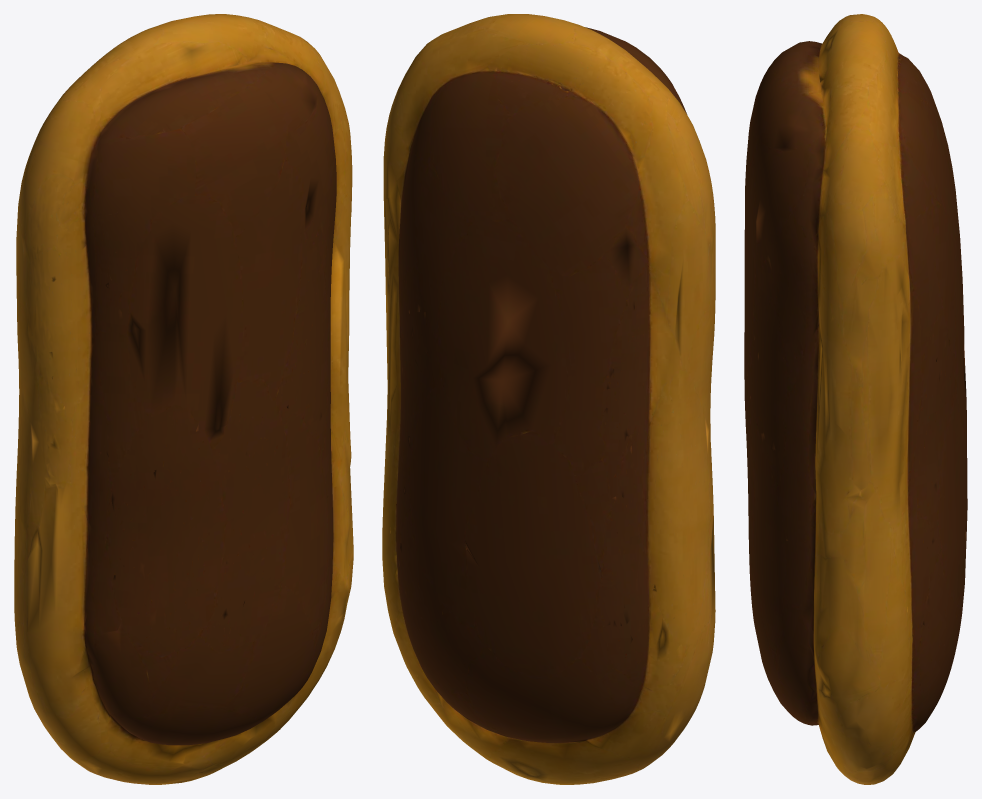
File: bk-pastry-eclair.glb
3 views of the same model, side by side, from view 1: azimuth 30°, elevation 25°; view 2: azimuth 150°, elevation 25°; view 3: azimuth 270°, elevation 25° (orthographic). The views are drawn at different scales.
Parts seen in each view (by area): view 1: node_0; view 2: node_0; view 3: node_0.
Boxes of the visible parts, box(x1,y1,x2,y2) form: node_0: box(14, 14, 353, 784); node_0: box(382, 14, 715, 784); node_0: box(744, 14, 967, 784).
Size of the model in its own units: 0.5325 by 1.2 by 0.3285.
1 material, 1 textured.
